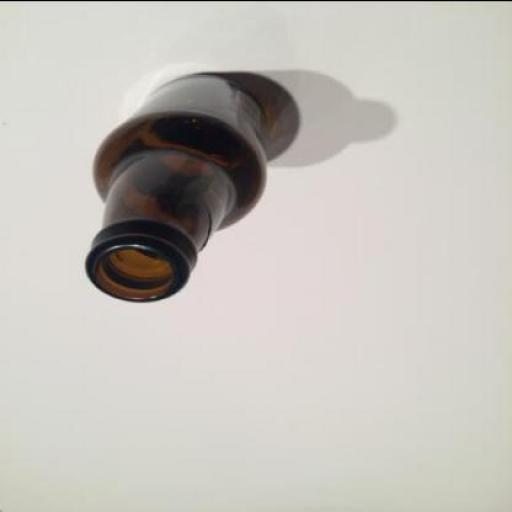glass: (88, 72, 270, 302)
